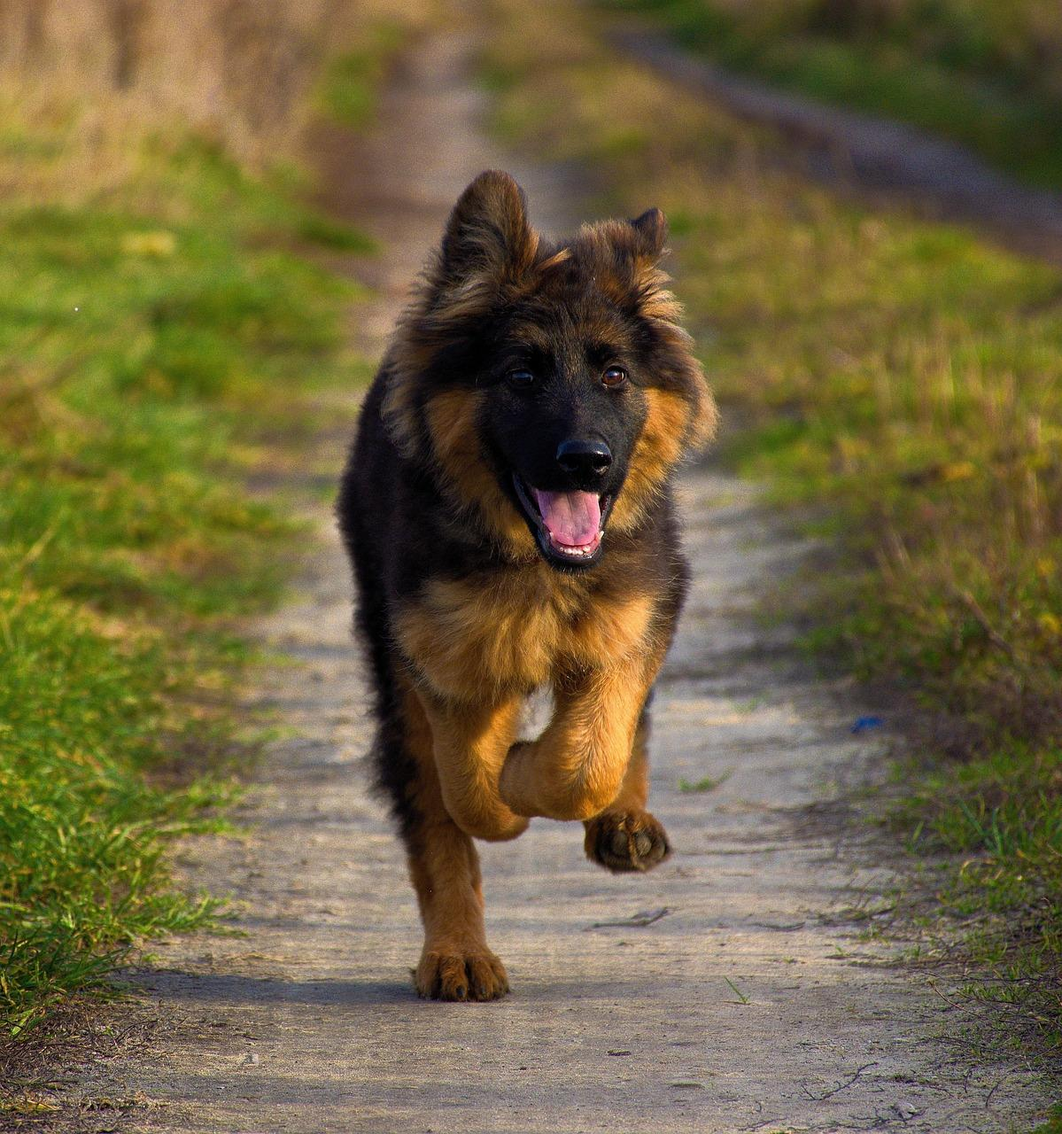german_shepherd: (397, 193, 720, 593)
